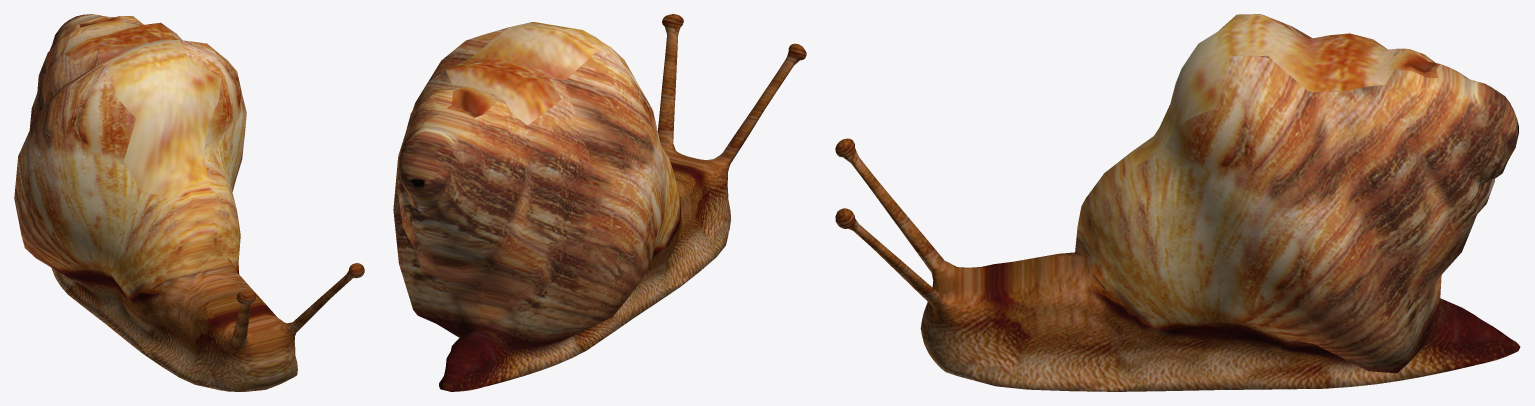
Rendered from Archatina Fulica.fbx.
The picture shows the model from 3 angles, left to right: view 1: azimuth 30°, elevation 25°; view 2: azimuth 150°, elevation 25°; view 3: azimuth 270°, elevation 25°; orthographic projection. The views are drawn at different scales.
Parts seen in each view (by area): view 1: snailbody; view 2: snailbody; view 3: snailbody.
Boxes of the visible parts, left/top/right/bottom form: snailbody: left=14, top=14, right=364, bottom=391; snailbody: left=393, top=14, right=806, bottom=391; snailbody: left=835, top=14, right=1520, bottom=391.
Size of the model in its own units: 2.82 by 3.21 by 5.98.
